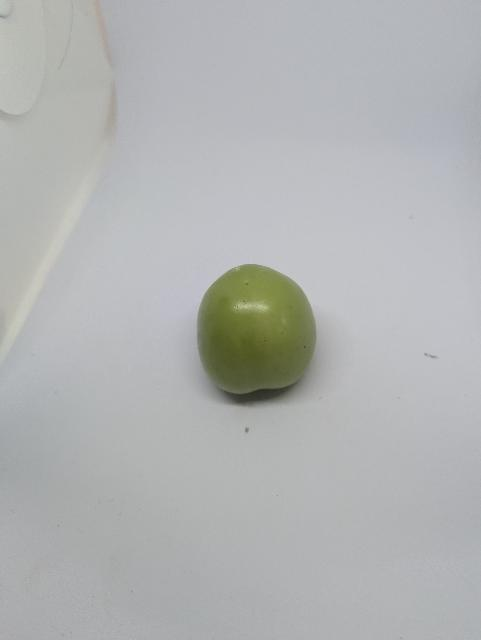green: (184, 254, 332, 419)
